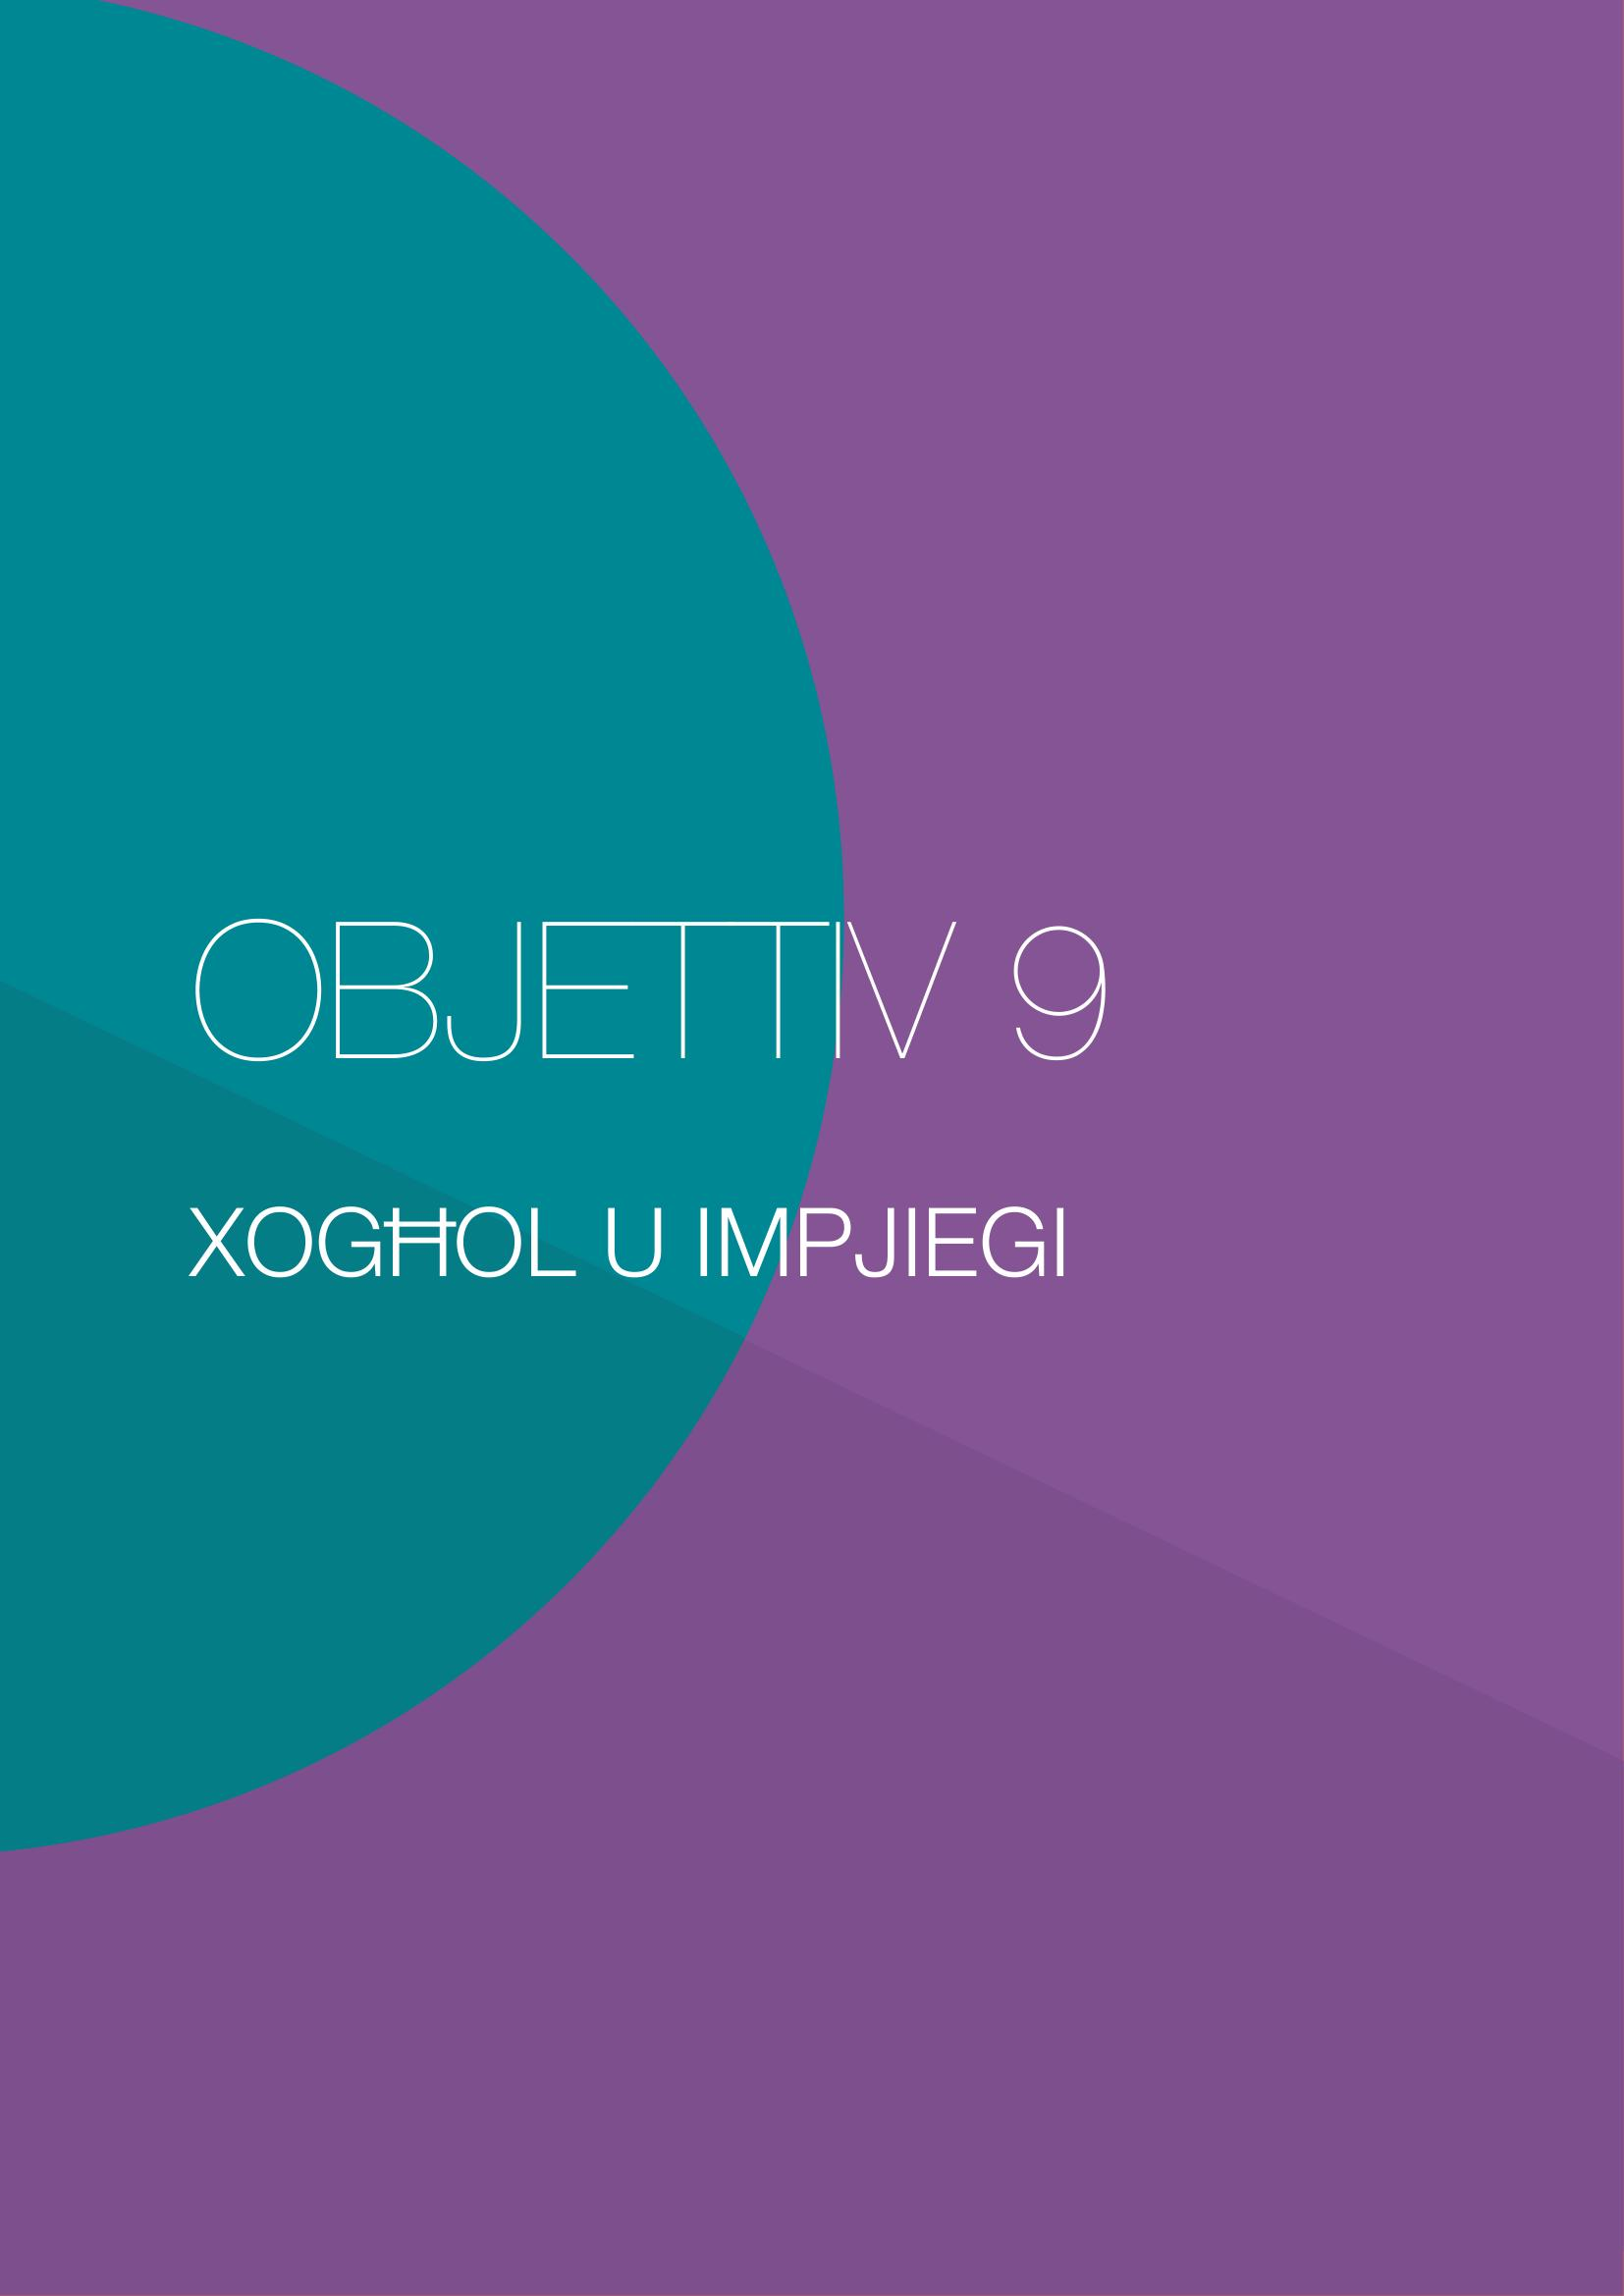text: (149, 891, 1165, 1340)
